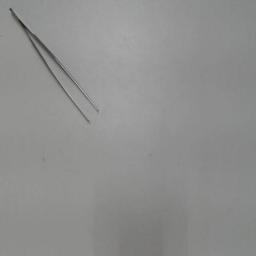Gillies Toothed Dissector: (8, 2, 108, 130)
